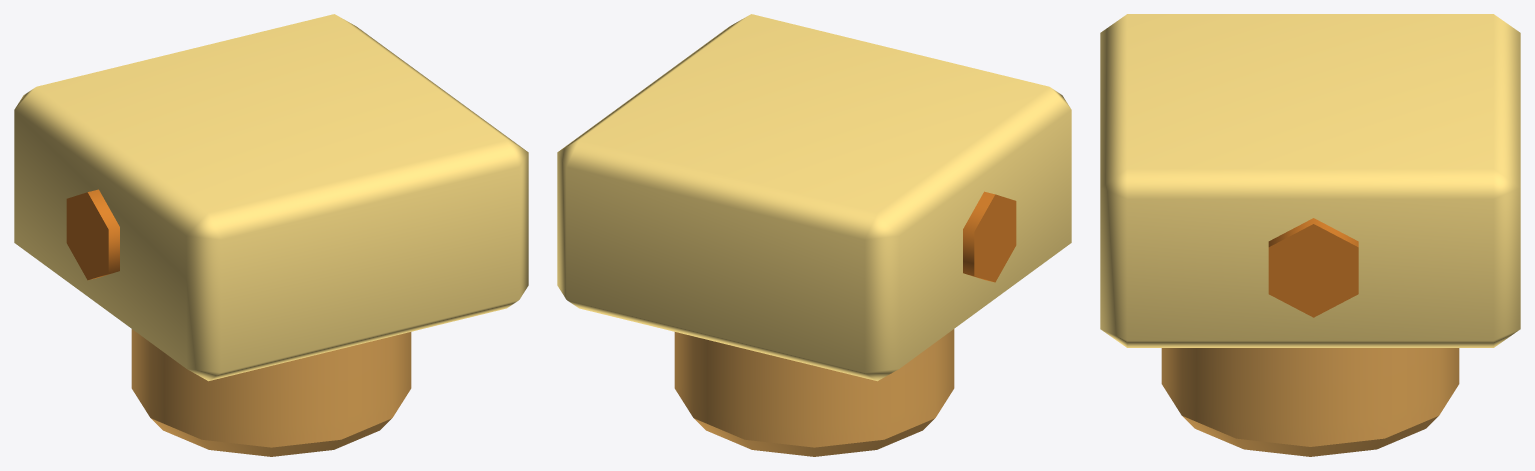
File: Claw_Mechanism_02.fbx
3 renders of one model, left to right at view 1: azimuth 30°, elevation 25°; view 2: azimuth 150°, elevation 25°; view 3: azimuth 270°, elevation 25°, orthographic. The views are drawn at different scales.
Parts seen in each view (by area): view 1: Claw_Mechanism_02; view 2: Claw_Mechanism_02; view 3: Claw_Mechanism_02.
Part boxes in pixels (<box>): Claw_Mechanism_02: <box>14,14,528,456</box>; Claw_Mechanism_02: <box>557,14,1071,456</box>; Claw_Mechanism_02: <box>1100,14,1520,456</box>.
Size of the model in its own units: 19.76 by 18.53 by 15.04.
